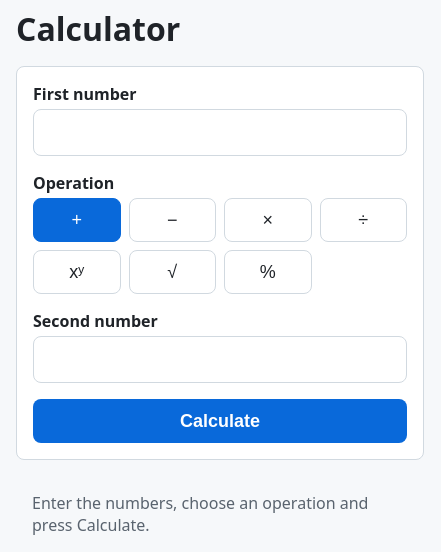
App › shows the error returned by the API
This screenshot has width=441, height=552.
Click the button named "Divide": [363, 220] box [320,198,407,242]
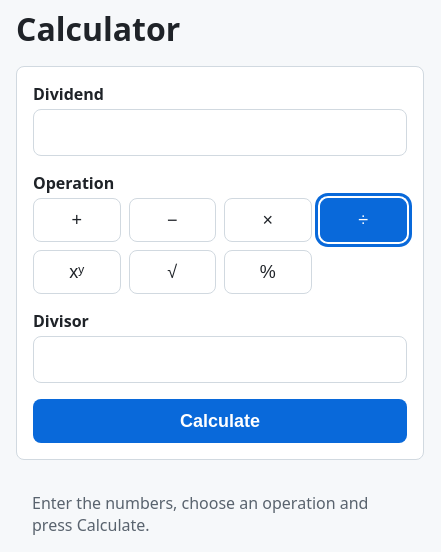
In the field labelled "Dividend": [220, 132] box [33,109,407,156], type "1"
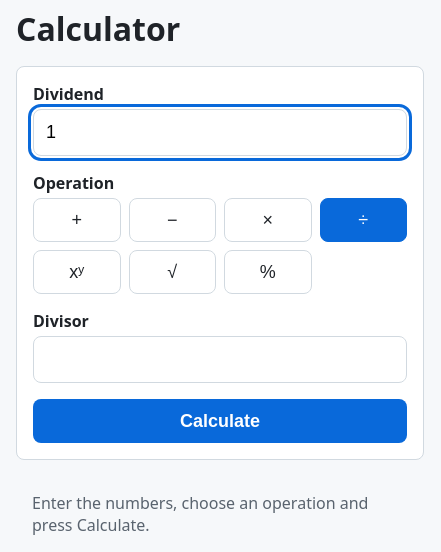
In the field labelled "Divisor": [220, 360] box [33,336,407,383], type "0"
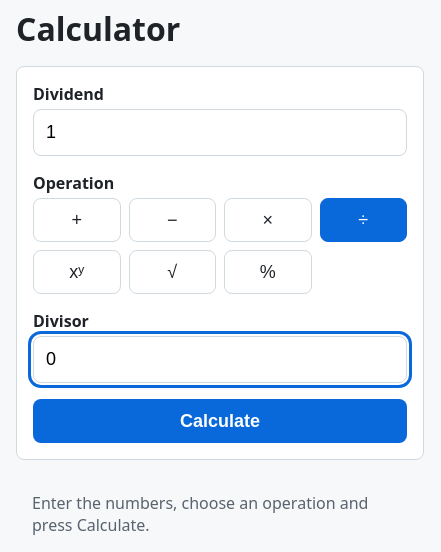
Click the button "Calculate": [220, 421] box [33,399,407,443]
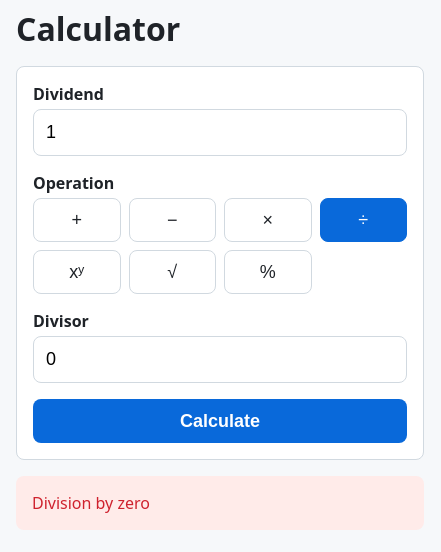
Result: the message reads "Division by zero" at [32,492,150,514]
